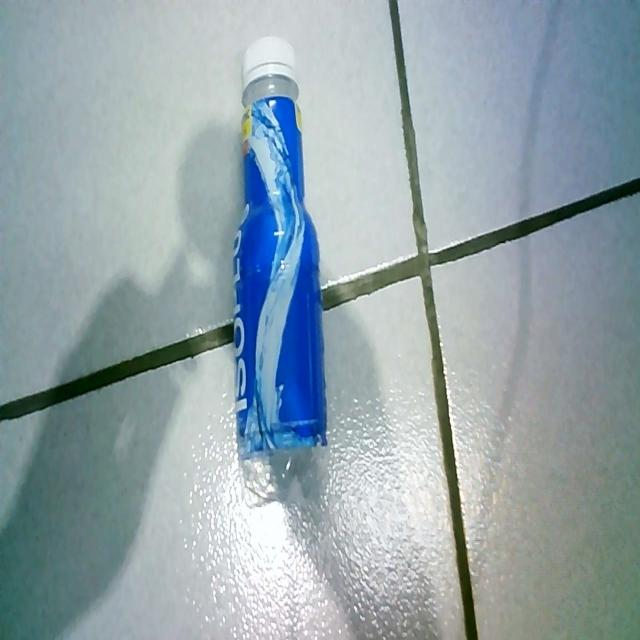botol: (213, 22, 360, 518)
